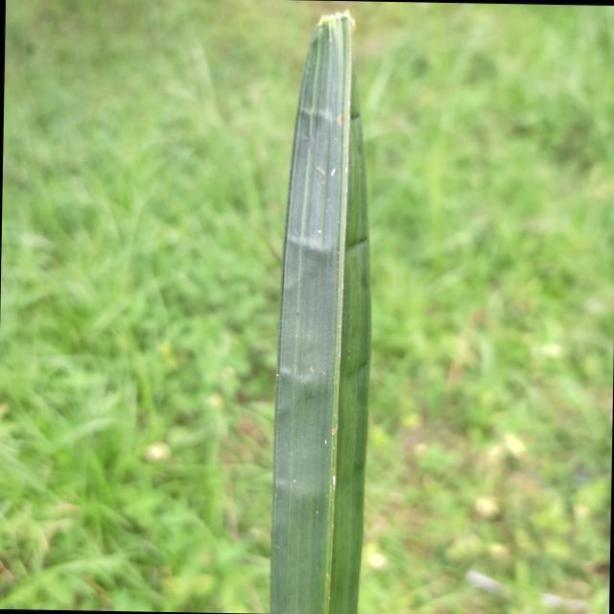Boron: (273, 5, 376, 614)
